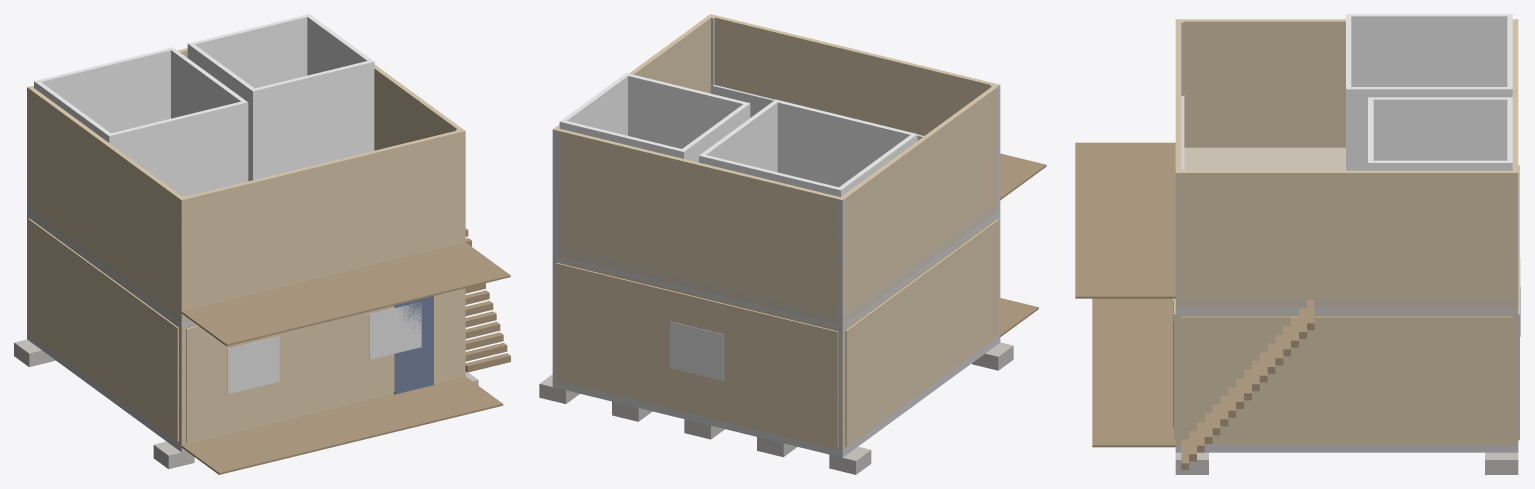
File: Duplex-20-Base-LightBrownSand-LOD1.glb
3 renders of one model, left to right at view 1: azimuth 30°, elevation 25°; view 2: azimuth 150°, elevation 25°; view 3: azimuth 270°, elevation 25°, orthographic. The views are drawn at different scales.
Visible parts, largest first — view 1: ExteriorShellUpper, ExteriorPanelsStandard, StudyUpper, BedroomUpper, BalconyUpper, BalconyGround, WindowsStandard, StaircaseExternal, EntryDoor, ExteriorShell, FoundationBlocks, BaseFrame (+3 smaller); view 2: ExteriorShellUpper, ExteriorPanelsStandard, BedroomUpper, StudyUpper, VerticalStructure, FloorUpper, FoundationBlocks, BaseFrame, ExteriorShell, WindowsStandard, TopFrame, BalconyUpper (+2 smaller); view 3: ExteriorShellUpper, ExteriorPanelsStandard, BalconyUpper, BedroomUpper, BalconyGround, StudyUpper, FloorUpper, StaircaseExternal, ExteriorShell, BaseFrame, TopFrame, FoundationBlocks (+1 smaller).
Boxes of the visible parts, box(x1,y1,x2,y2) form: ExteriorShellUpper: box(27, 48, 465, 317); ExteriorPanelsStandard: box(28, 218, 461, 442); StudyUpper: box(187, 14, 374, 181); BedroomUpper: box(34, 47, 248, 196); BalconyUpper: box(181, 242, 510, 346); BalconyGround: box(181, 376, 503, 474); WindowsStandard: box(227, 303, 421, 394); StaircaseExternal: box(465, 228, 510, 372); EntryDoor: box(394, 296, 433, 394); ExteriorShell: box(27, 214, 465, 445); FoundationBlocks: box(14, 339, 478, 469); BaseFrame: box(27, 333, 186, 452); ExteriorShellUpper: box(553, 14, 999, 320); ExteriorPanelsStandard: box(556, 219, 999, 447); BedroomUpper: box(699, 99, 917, 197); StudyUpper: box(559, 73, 750, 162); VerticalStructure: box(552, 17, 1000, 449); FloorUpper: box(553, 204, 996, 325); FoundationBlocks: box(539, 342, 1013, 474); BaseFrame: box(552, 336, 1000, 457); ExteriorShell: box(553, 218, 996, 450); WindowsStandard: box(670, 321, 723, 380); TopFrame: box(559, 213, 996, 329); BalconyUpper: box(1000, 153, 1046, 199); ExteriorShellUpper: box(1175, 19, 1518, 303); ExteriorPanelsStandard: box(1174, 165, 1519, 443); BalconyUpper: box(1075, 142, 1175, 298); BedroomUpper: box(1346, 14, 1512, 170); BalconyGround: box(1092, 298, 1175, 447); StudyUpper: box(1368, 97, 1512, 170); FloorUpper: box(1175, 147, 1518, 308); StaircaseExternal: box(1181, 299, 1314, 470); ExteriorShell: box(1175, 314, 1518, 445); BaseFrame: box(1175, 445, 1518, 452); TopFrame: box(1175, 309, 1518, 313); FoundationBlocks: box(1175, 452, 1518, 474).
Bounding box in the file's own units: 7.94 × 6 × 8.
